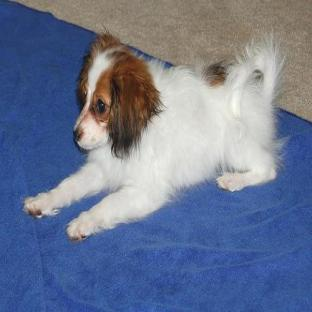Animal: (23, 33, 283, 240)
